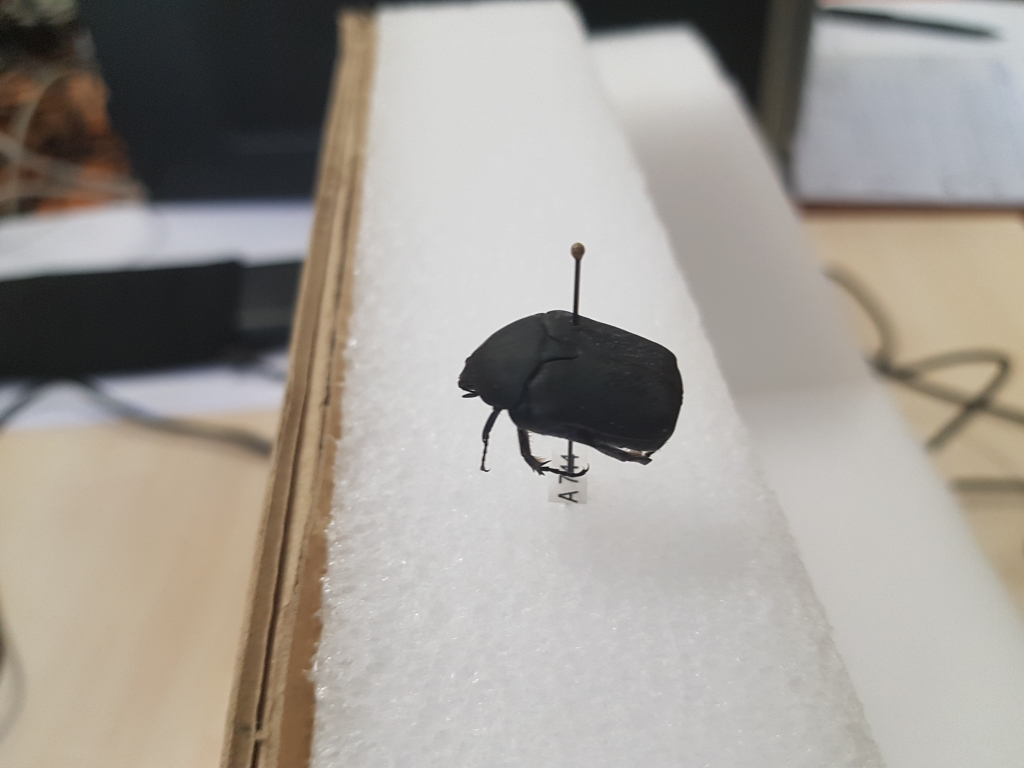Protaetia_afflicta: (453, 304, 682, 481)
